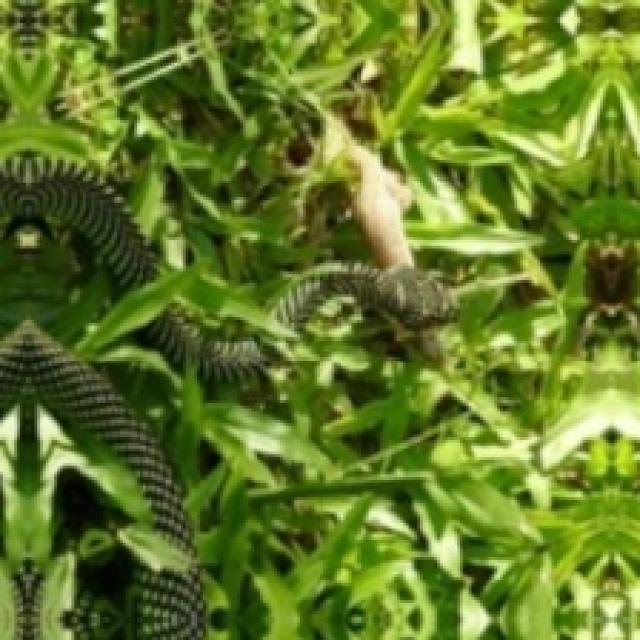paradise tree snake: (0, 320, 200, 637), (0, 154, 154, 286), (272, 264, 458, 329), (141, 310, 266, 379)
